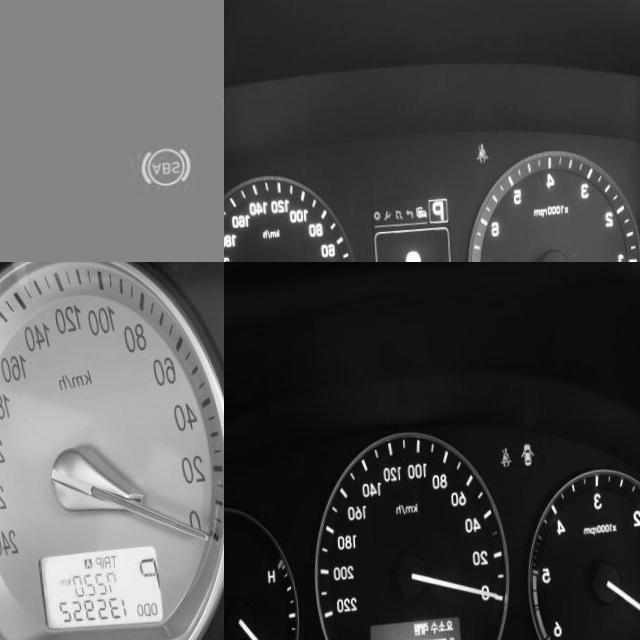Doors: (518, 449, 533, 474)
